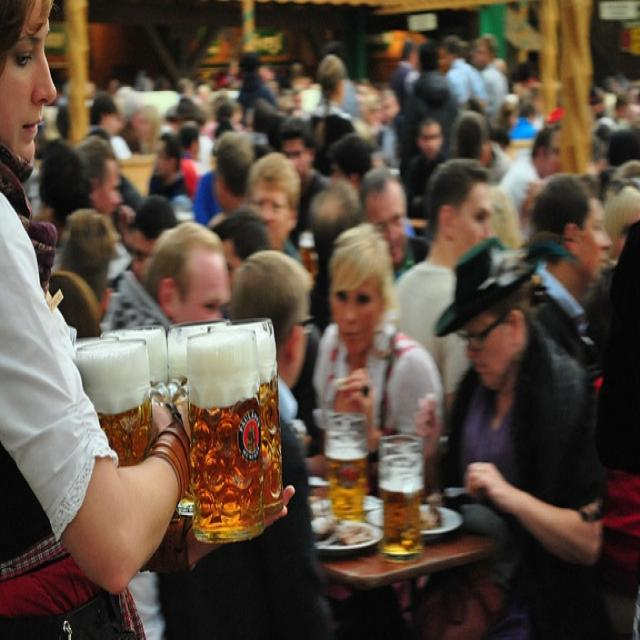body: (53, 21, 640, 274), (0, 0, 195, 638), (413, 227, 609, 639), (21, 204, 146, 638), (509, 174, 615, 640), (225, 246, 336, 640), (308, 218, 447, 460), (390, 158, 495, 417), (100, 215, 235, 341), (599, 274, 640, 638), (74, 132, 134, 330), (306, 179, 366, 333), (359, 164, 433, 284), (205, 206, 270, 320), (243, 151, 305, 266), (33, 138, 90, 248), (121, 194, 179, 286), (23, 100, 54, 160)
